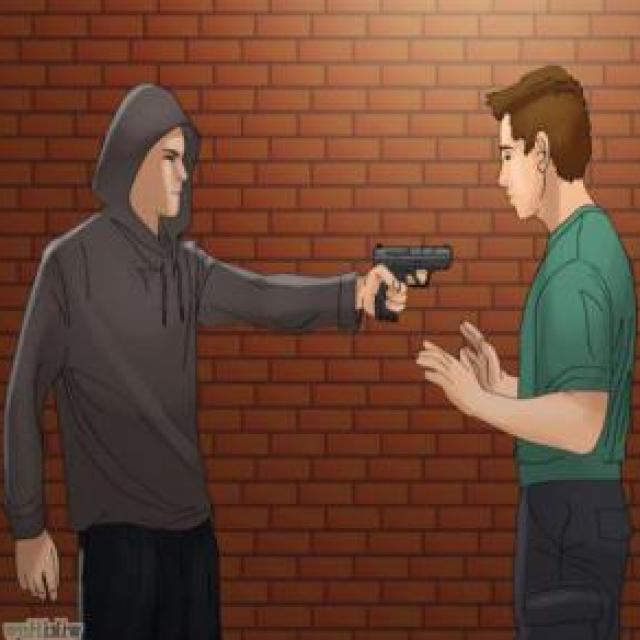pistol: (366, 239, 452, 325)
